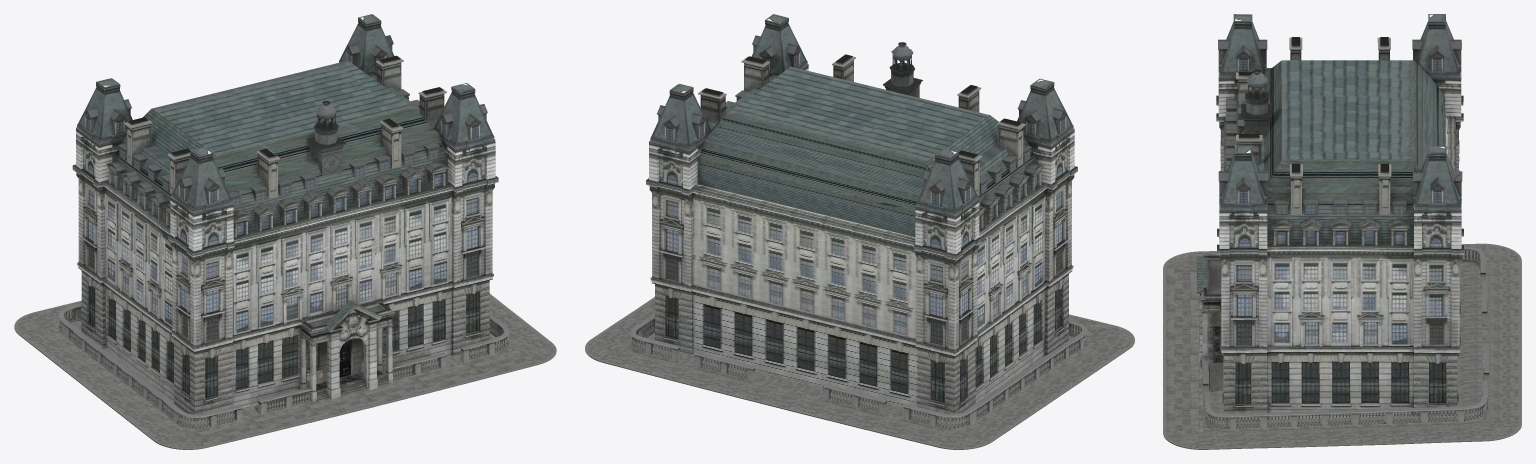
File: free_london_kinnaird_house.glb
3 views of the same model, side by side, from view 1: azimuth 30°, elevation 25°; view 2: azimuth 150°, elevation 25°; view 3: azimuth 270°, elevation 25° (orthographic). The views are drawn at different scales.
Parts seen in each view (by area): view 1: Building_London_Building_0, Plane.001_Sidewalk_0, Plane.002_Sidewalk_Curb_0; view 2: Building_London_Building_0, Plane.001_Sidewalk_0, Plane.002_Sidewalk_Curb_0; view 3: Building_London_Building_0, Plane.001_Sidewalk_0, Plane.002_Sidewalk_Curb_0.
Part boxes in pixels (<box>): Building_London_Building_0: <box>58,14,509,429</box>; Plane.001_Sidewalk_0: <box>17,296,553,447</box>; Plane.002_Sidewalk_Curb_0: <box>14,293,556,449</box>; Building_London_Building_0: <box>630,14,1087,430</box>; Plane.001_Sidewalk_0: <box>588,299,1131,447</box>; Plane.002_Sidewalk_Curb_0: <box>585,297,1134,449</box>; Building_London_Building_0: <box>1197,14,1489,431</box>; Plane.001_Sidewalk_0: <box>1166,245,1518,447</box>; Plane.002_Sidewalk_Curb_0: <box>1163,243,1521,449</box>.
Bounding box in the file's own units: 51.48 × 33.84 × 39.04.
Materials: 3 (3 with a texture image).
